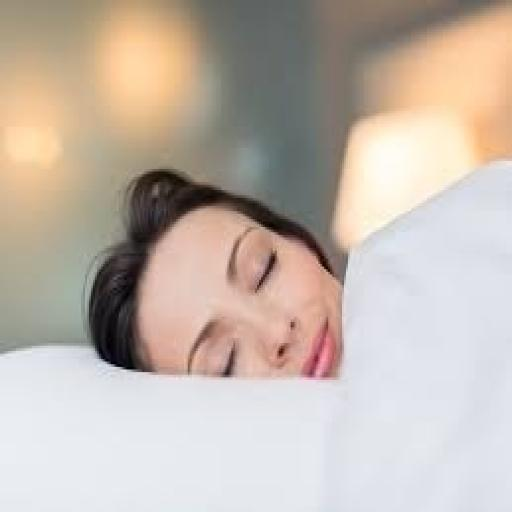sleeping: (83, 164, 348, 382)
